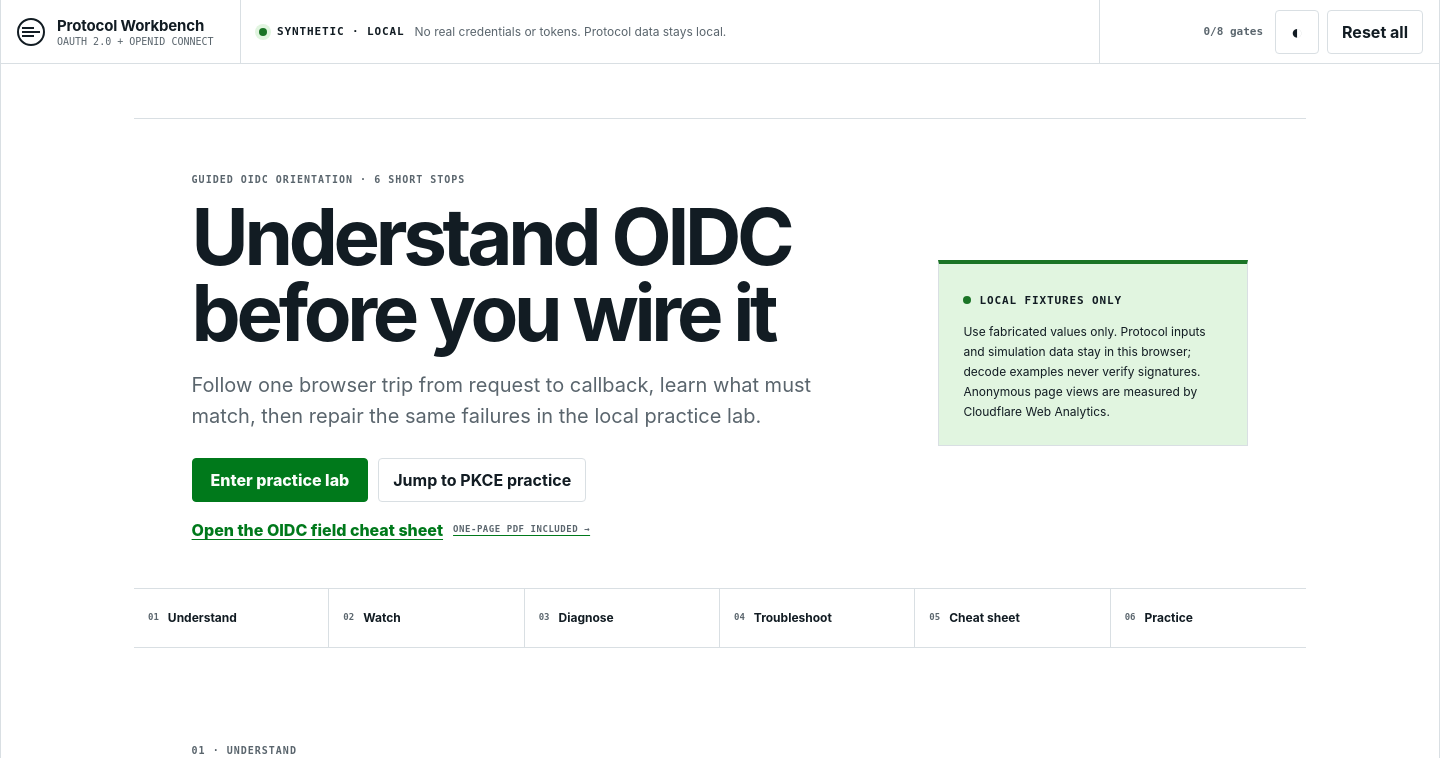
Protocol Workbench › scopes the practice privacy claim to protocol data
The image size is (1440, 758).
Click the button "Enter practice lab": (280, 480) [192,458,368,502]
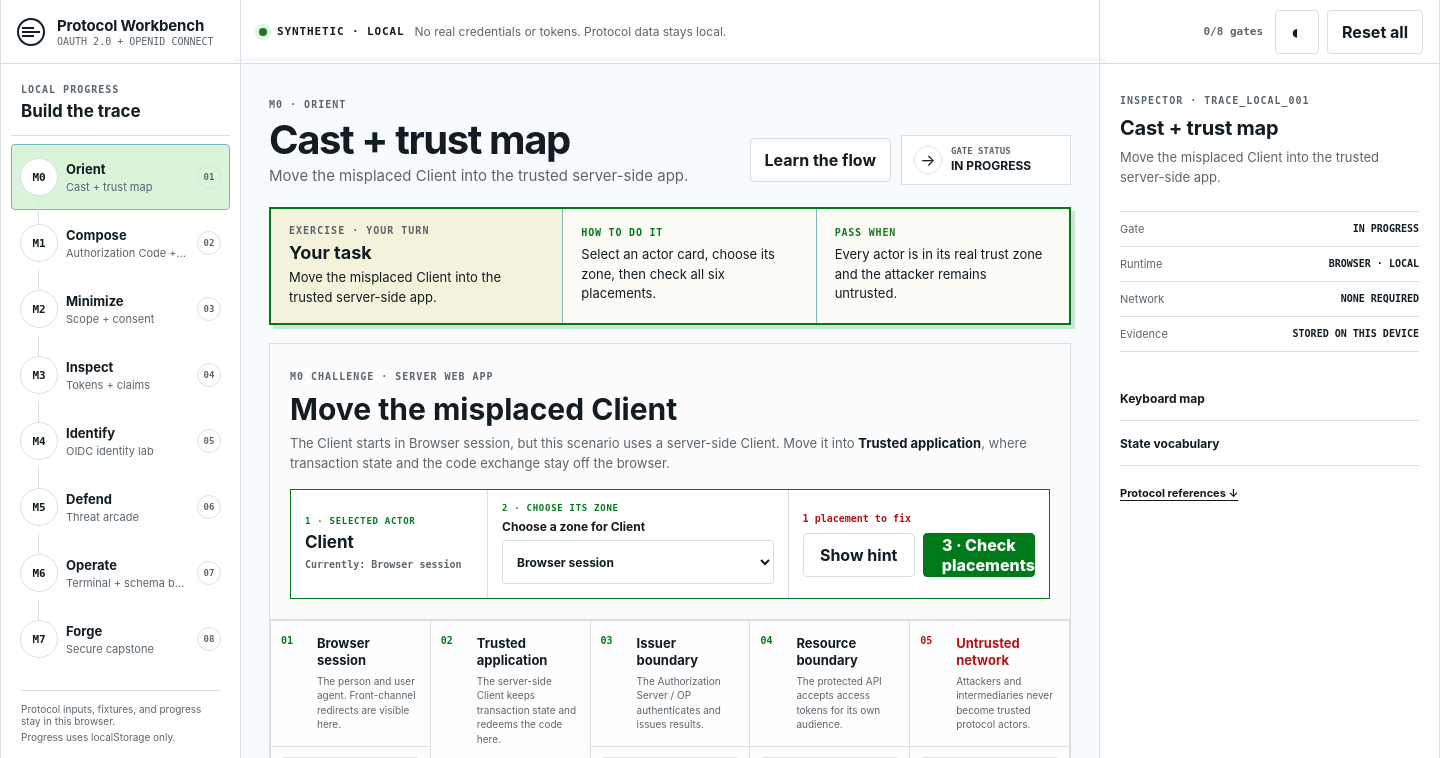
Result: the text "Protocol inputs, fixtures, and progress stay in this browser" is shown at [21,703,201,727]
